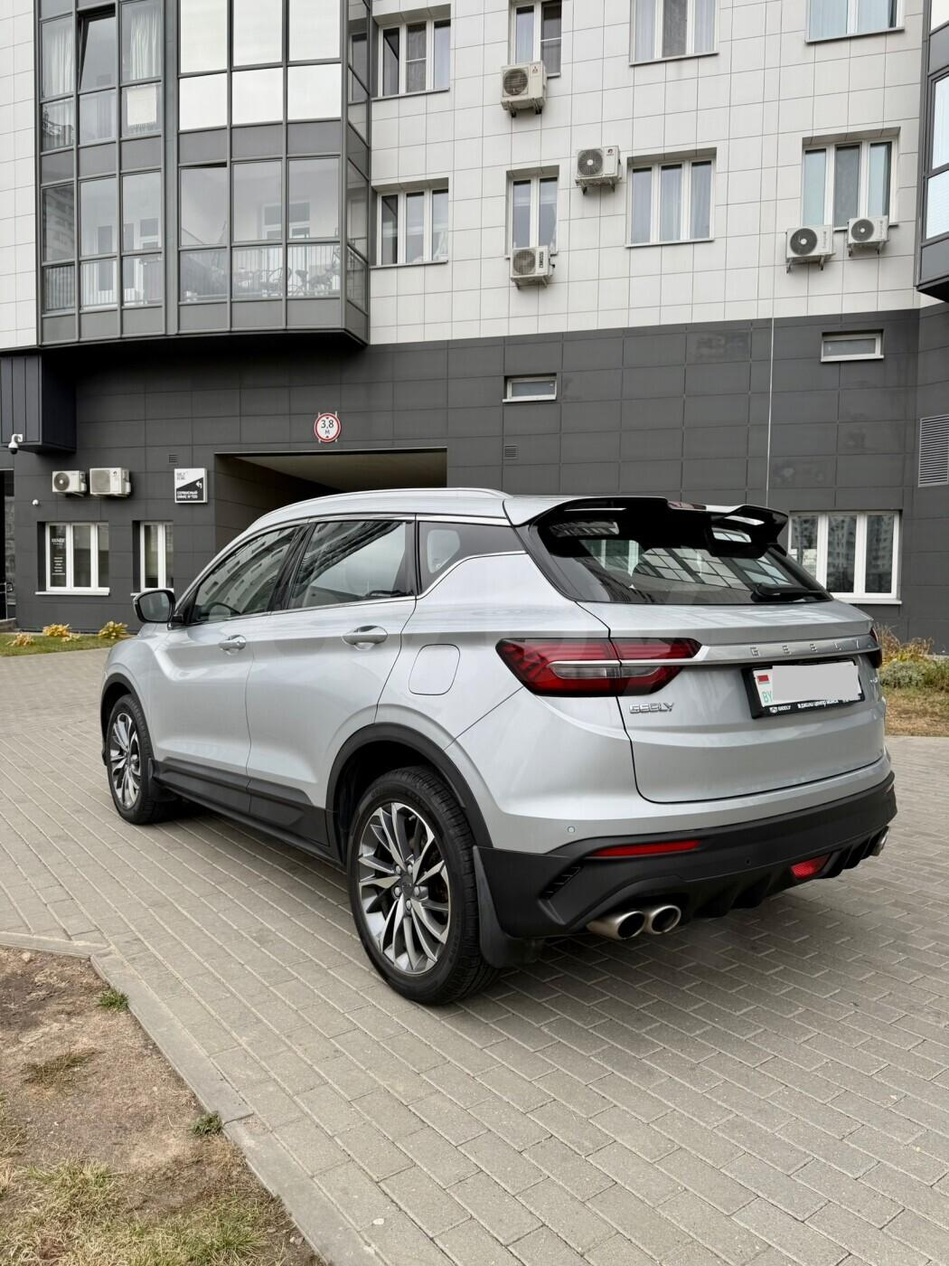Coolray_2019-2023: (98, 490, 904, 987)
